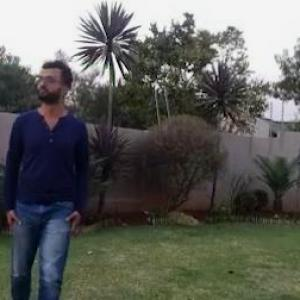follow: (0, 34, 93, 299)
